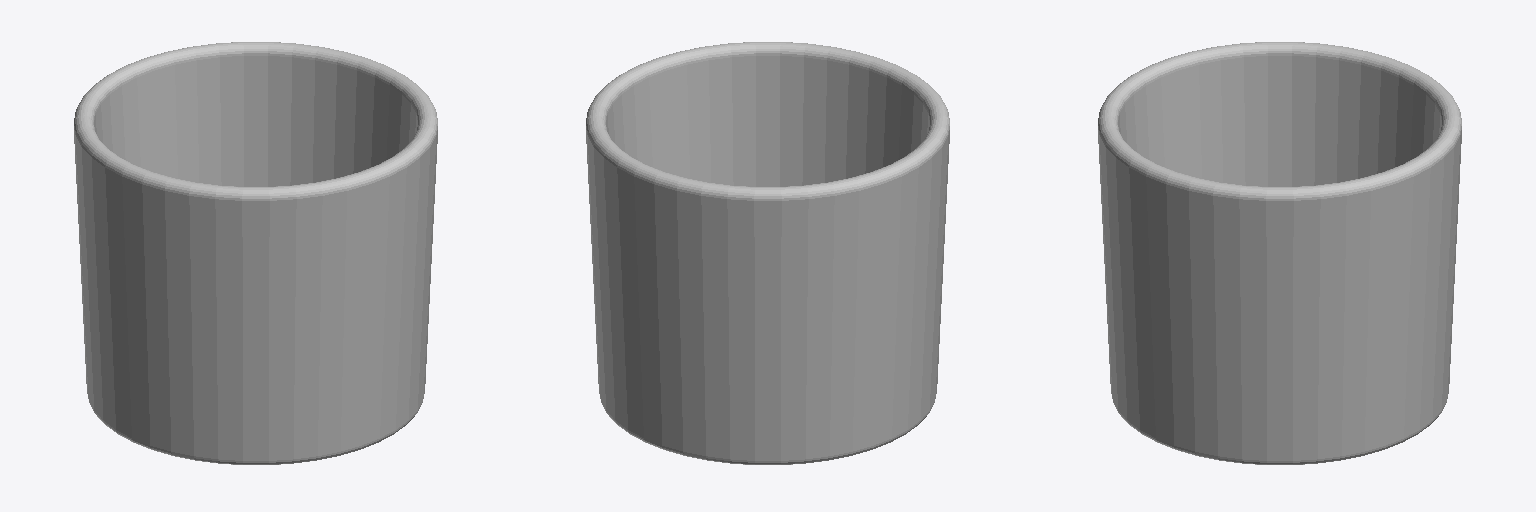
The model's file is tiny_glass.obj.
The picture shows the model from 3 angles: view 1: azimuth 30°, elevation 25°; view 2: azimuth 150°, elevation 25°; view 3: azimuth 270°, elevation 25°; orthographic projection.
Visible parts, largest first — view 1: Cylinder_Cylinder.001; view 2: Cylinder_Cylinder.001; view 3: Cylinder_Cylinder.001.
Part boxes in pixels (x1,y1,x2,y2): Cylinder_Cylinder.001: (74, 42, 437, 464); Cylinder_Cylinder.001: (586, 42, 949, 464); Cylinder_Cylinder.001: (1098, 42, 1461, 464).
Size of the model in its own units: 1.4 by 1.2 by 1.41.